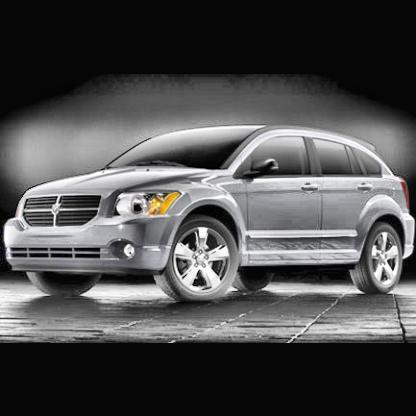Dodge Caliber Wagon 2012: (5, 128, 413, 309)
